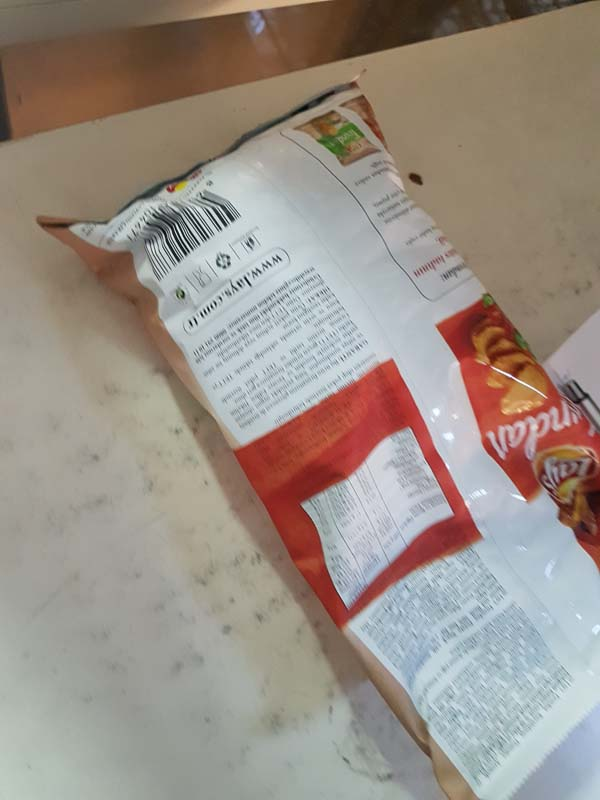laysfirindan: (45, 46, 600, 786)
